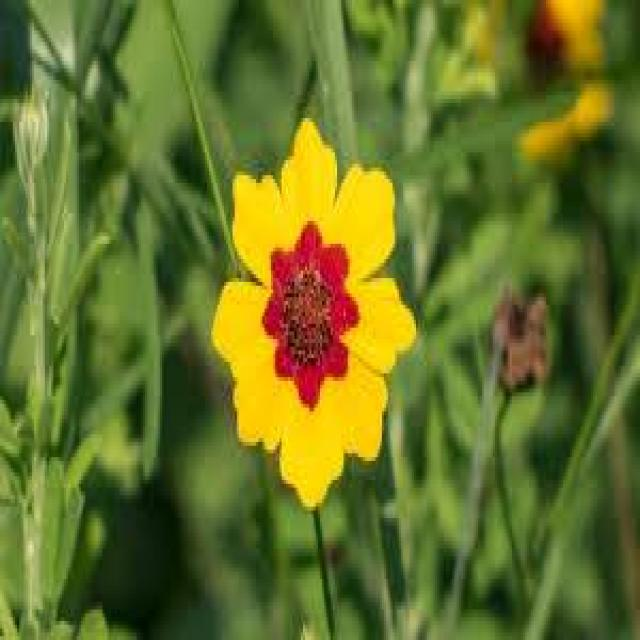organic waste: (218, 124, 405, 497)
